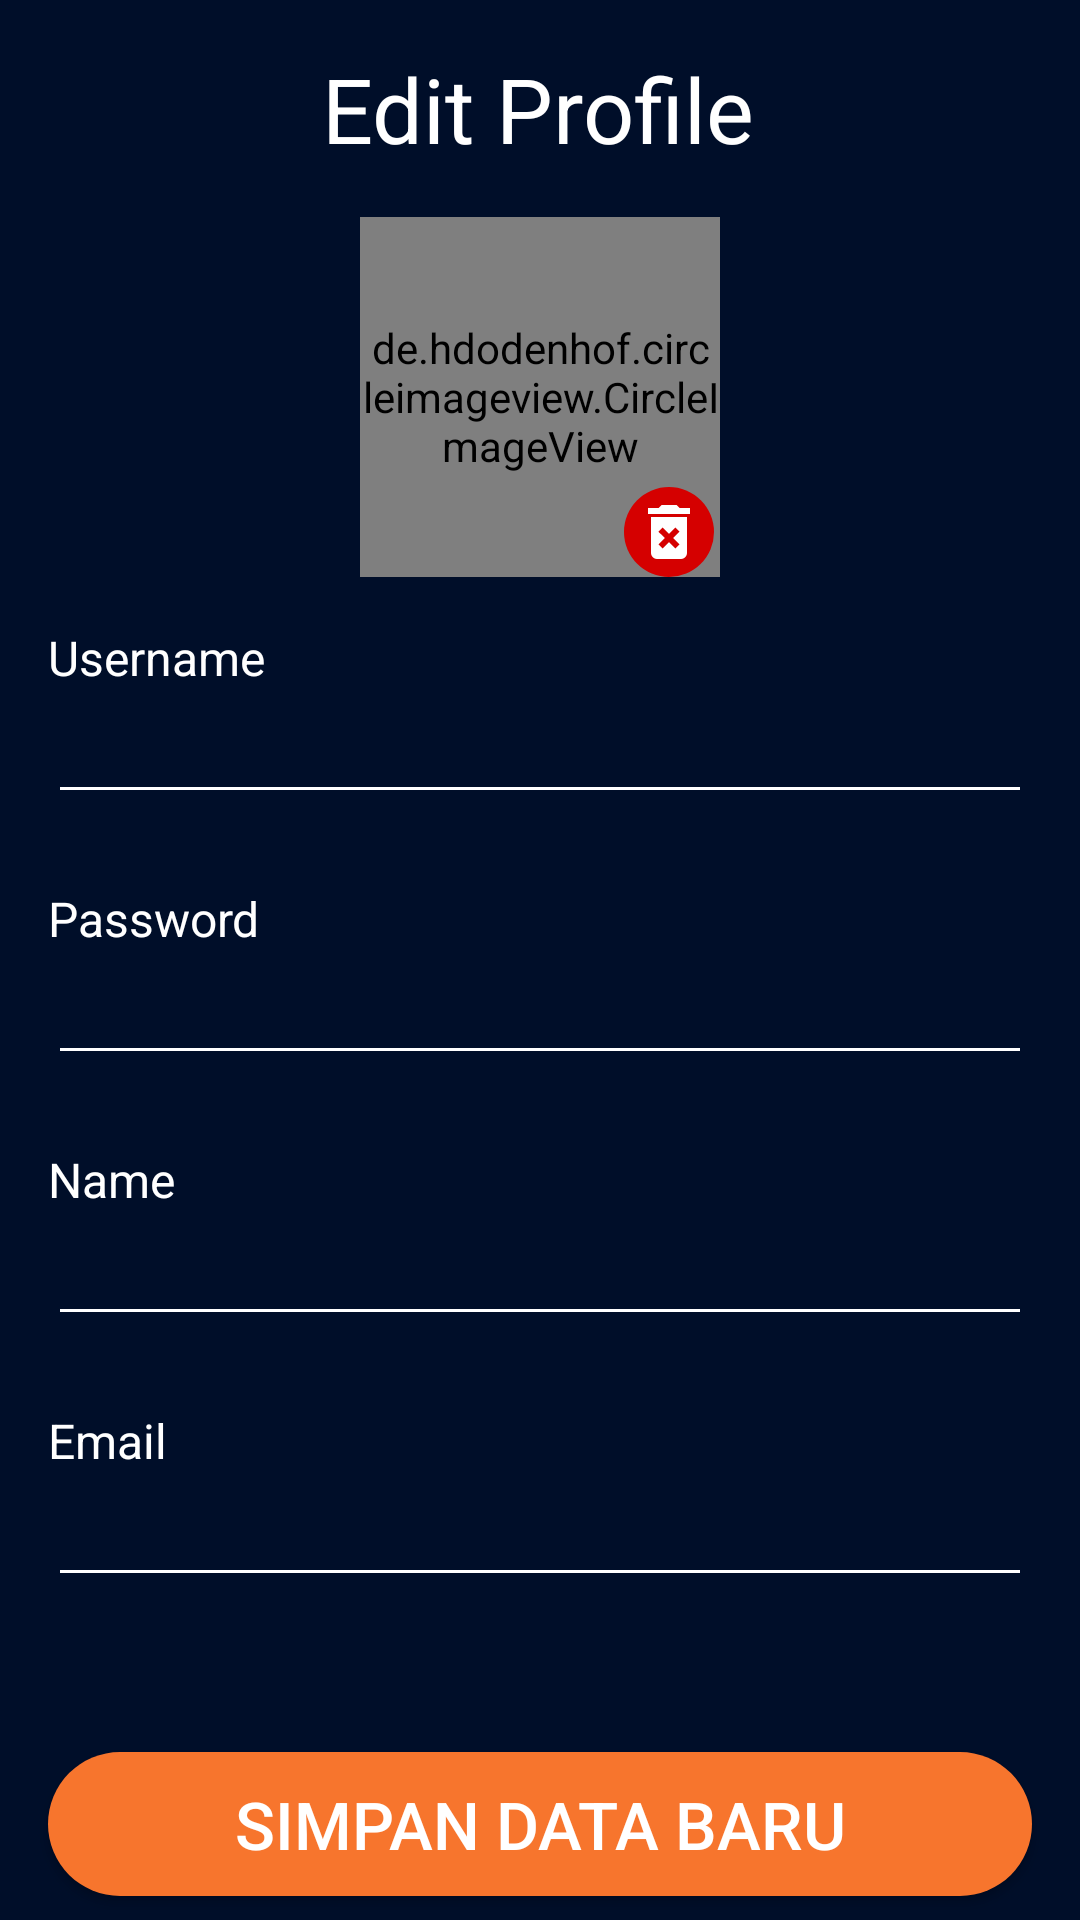

Icon bounding boxes for this 1080px x 1920px phone screenshot, format (x1, y1, x2, y2):
delete forever: (624, 487, 714, 577)
